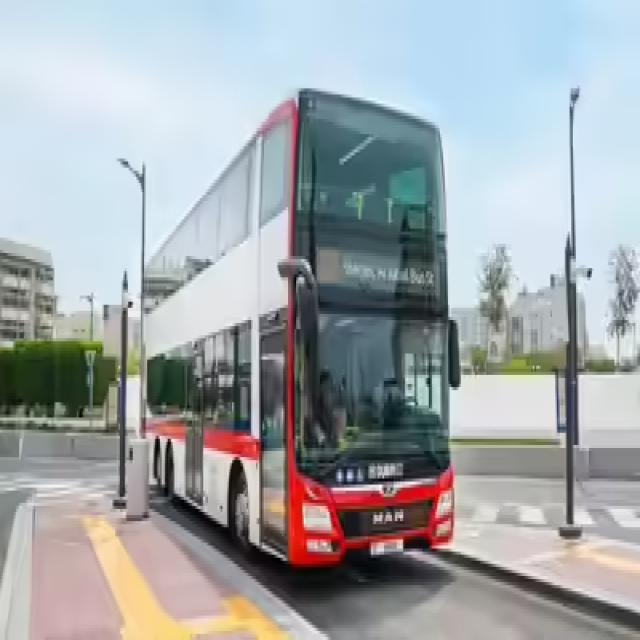bus: (145, 79, 463, 583)
